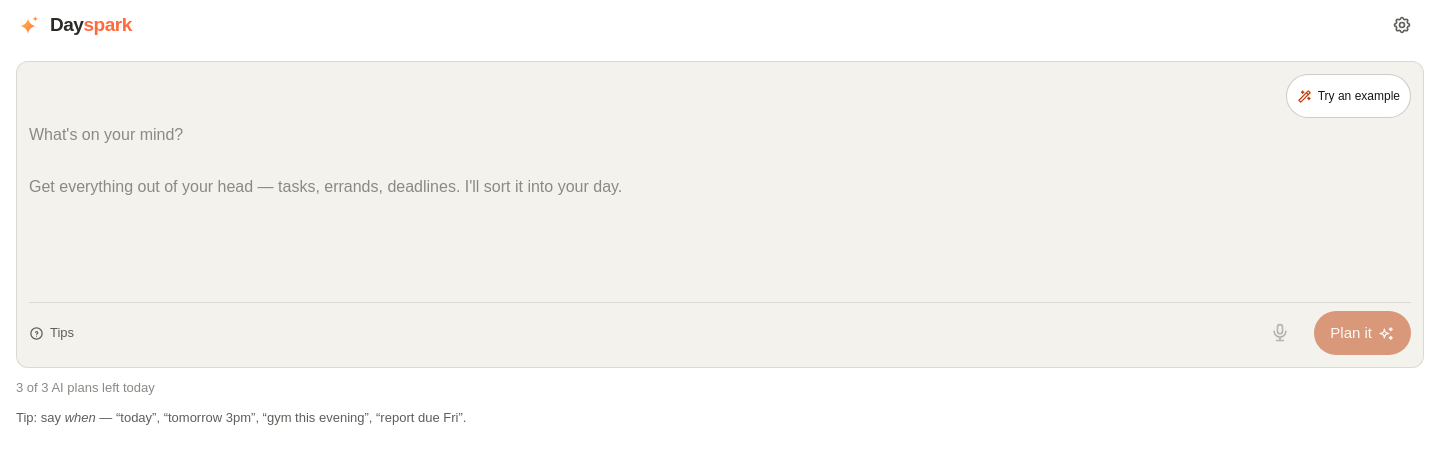
Scenario: CaptureFlow › shows an inline notice and stays on the composer when the parse finds no tasks
Type "asdfghjkl" into the text box named "brain dump" at (720, 210), box [29,122,1411,298]
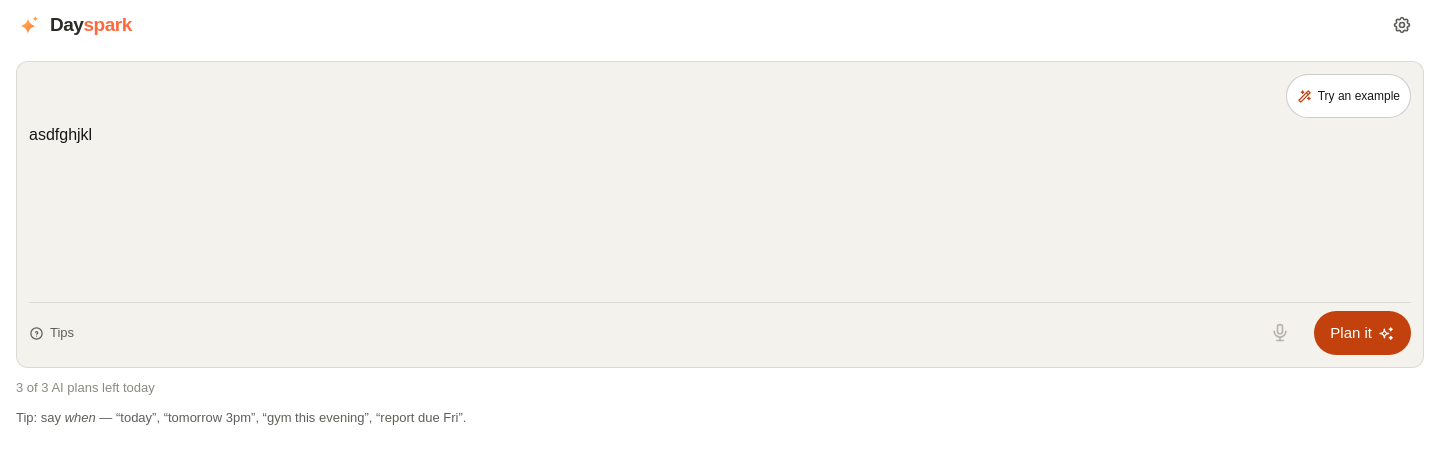
Click the button "Plan it" at (1363, 333), box [1314,311,1411,355]
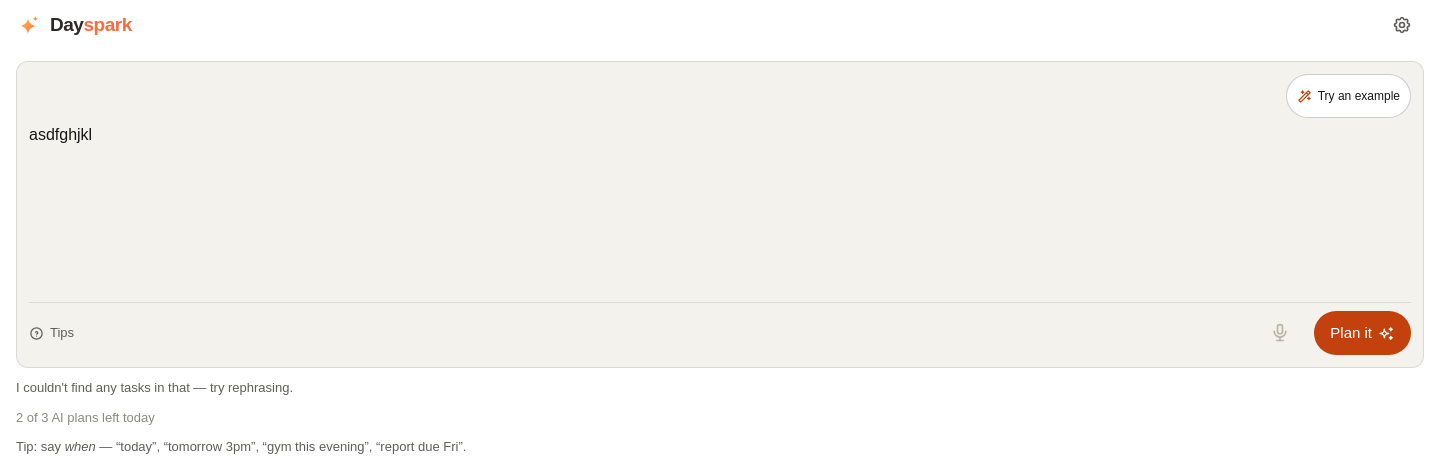
Expected: the text "I couldn't find any tasks in that — try rephrasing." is shown, [16,380,293,395]
